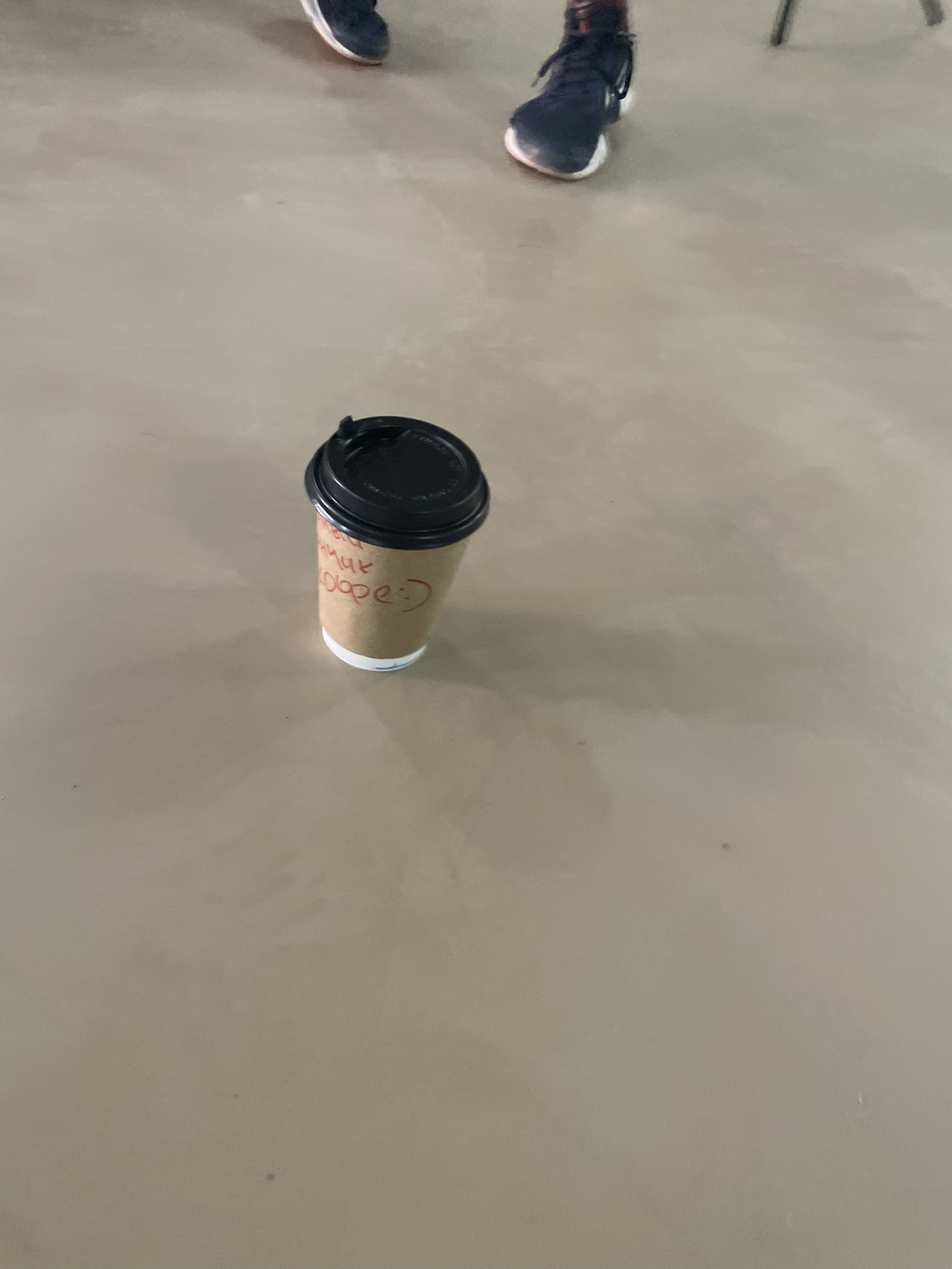cup: (304, 415, 490, 671)
